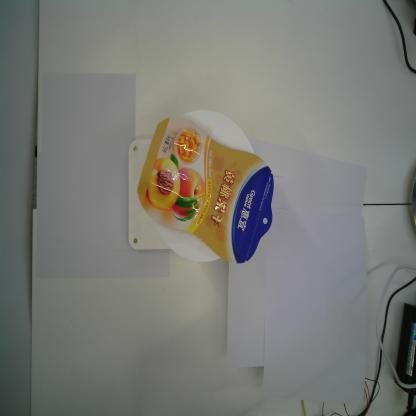Dried Fruit: (136, 114, 276, 268)
